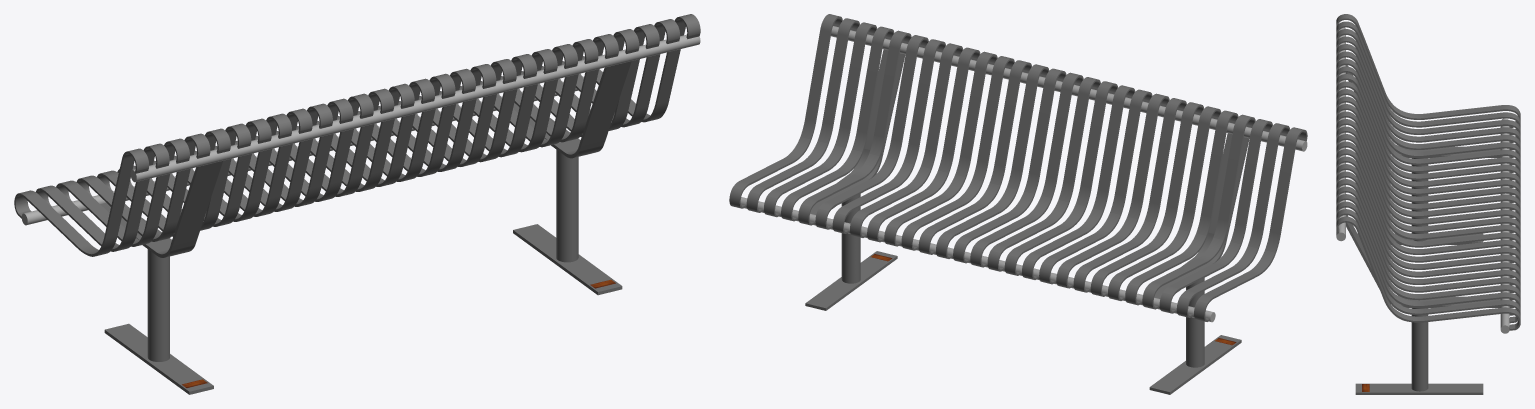
3 views of the same model, side by side, from view 1: azimuth 30°, elevation 25°; view 2: azimuth 150°, elevation 25°; view 3: azimuth 270°, elevation 25° (orthographic). The views are drawn at different scales.
Visible parts, largest first — view 1: mesh16_mesh16-geometry, mesh53_mesh53-geometry, mesh3_mesh3-geometry, mesh30_mesh30-geometry, mesh51_mesh51-geometry, mesh6_mesh6-geometry, mesh33_mesh33-geometry, mesh49_mesh49-geometry, mesh47_mesh47-geometry, mesh32_mesh32-geometry, mesh5_mesh5-geometry, mesh24_mesh24-geometry (+24 smaller); view 2: mesh53_mesh53-geometry, mesh43_mesh43-geometry, mesh45_mesh45-geometry, mesh37_mesh37-geometry, mesh59_mesh59-geometry, mesh39_mesh39-geometry, mesh65_mesh65-geometry, mesh24_mesh24-geometry, mesh47_mesh47-geometry, mesh69_mesh69-geometry, mesh26_mesh26-geometry, mesh63_mesh63-geometry (+24 smaller); view 3: mesh12_mesh12-geometry, mesh14_mesh14-geometry, mesh67_mesh67-geometry, mesh37_mesh37-geometry, mesh63_mesh63-geometry, mesh57_mesh57-geometry, mesh61_mesh61-geometry, mesh10_mesh10-geometry, mesh24_mesh24-geometry, mesh73_mesh73-geometry, mesh77_mesh77-geometry, mesh28_mesh28-geometry (+24 smaller).
Boxes of the visible parts, left/top/right/bottom form: mesh16_mesh16-geometry: left=130, top=34, right=700, bottom=182; mesh53_mesh53-geometry: left=14, top=148, right=149, bottom=256; mesh3_mesh3-geometry: left=100, top=161, right=222, bottom=257; mesh30_mesh30-geometry: left=513, top=61, right=631, bottom=158; mesh51_mesh51-geometry: left=36, top=143, right=169, bottom=251; mesh6_mesh6-geometry: left=147, top=249, right=169, bottom=361; mesh33_mesh33-geometry: left=556, top=150, right=578, bottom=262; mesh49_mesh49-geometry: left=56, top=138, right=189, bottom=246; mesh47_mesh47-geometry: left=76, top=133, right=210, bottom=241; mesh32_mesh32-geometry: left=513, top=224, right=622, bottom=295; mesh5_mesh5-geometry: left=104, top=323, right=213, bottom=394; mesh24_mesh24-geometry: left=416, top=54, right=537, bottom=162; mesh53_mesh53-geometry: left=1194, top=127, right=1307, bottom=321; mesh43_mesh43-geometry: left=1108, top=106, right=1221, bottom=300; mesh45_mesh45-geometry: left=1125, top=110, right=1238, bottom=305; mesh37_mesh37-geometry: left=1039, top=89, right=1152, bottom=284; mesh59_mesh59-geometry: left=953, top=68, right=1066, bottom=263; mesh39_mesh39-geometry: left=1056, top=93, right=1169, bottom=288; mesh65_mesh65-geometry: left=987, top=77, right=1100, bottom=271; mesh24_mesh24-geometry: left=867, top=47, right=980, bottom=242; mesh47_mesh47-geometry: left=1142, top=114, right=1255, bottom=309; mesh69_mesh69-geometry: left=1022, top=85, right=1135, bottom=279; mesh26_mesh26-geometry: left=884, top=51, right=997, bottom=246; mesh63_mesh63-geometry: left=970, top=72, right=1083, bottom=267; mesh12_mesh12-geometry: left=1336, top=216, right=1520, bottom=330; mesh14_mesh14-geometry: left=1336, top=209, right=1520, bottom=323; mesh67_mesh67-geometry: left=1336, top=96, right=1520, bottom=210; mesh37_mesh37-geometry: left=1336, top=81, right=1520, bottom=195; mesh63_mesh63-geometry: left=1336, top=111, right=1520, bottom=225; mesh57_mesh57-geometry: left=1336, top=126, right=1520, bottom=240; mesh61_mesh61-geometry: left=1336, top=66, right=1520, bottom=180; mesh10_mesh10-geometry: left=1336, top=201, right=1520, bottom=315; mesh24_mesh24-geometry: left=1336, top=156, right=1520, bottom=270; mesh73_mesh73-geometry: left=1336, top=186, right=1520, bottom=300; mesh77_mesh77-geometry: left=1336, top=171, right=1520, bottom=285; mesh28_mesh28-geometry: left=1336, top=141, right=1520, bottom=255.
Bounding box in the file's own units: 0.8638 × 0.3848 × 0.3253.
